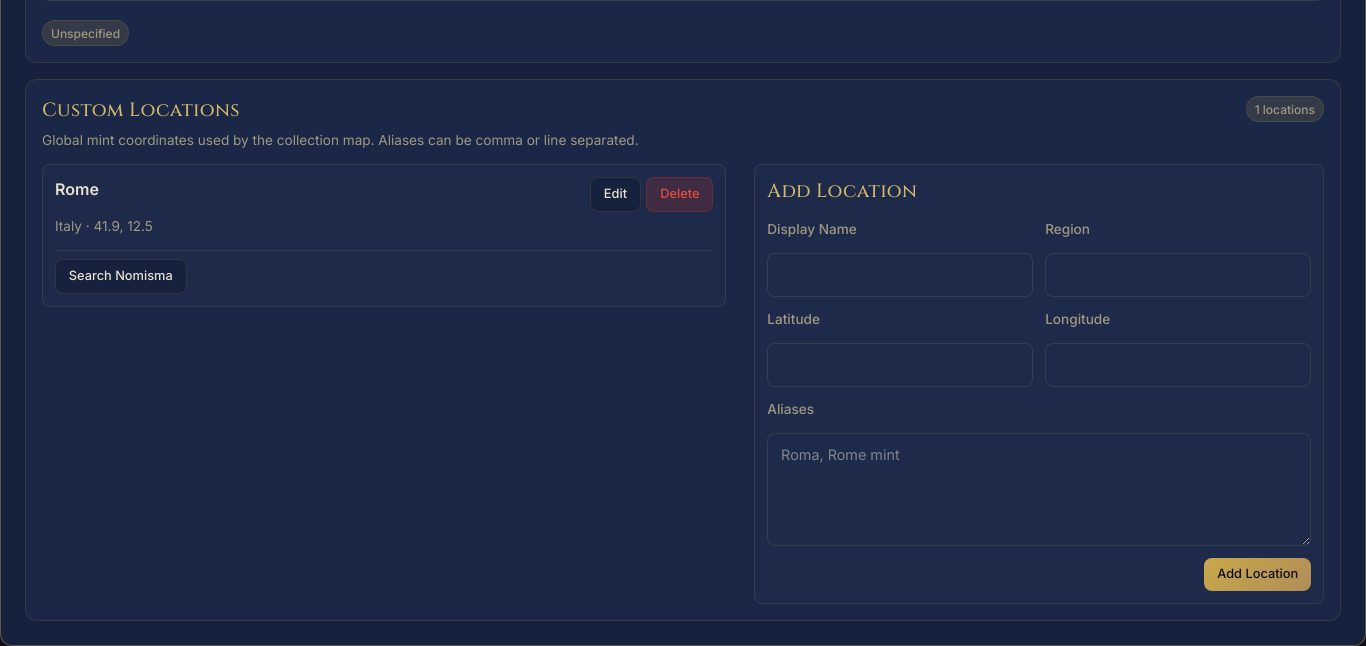
Test: AdminCoinPropertiesSection - Nomisma authority linking › shows "unavailable" messaging on an upstream outage and never surfaces a raw error/5xx
The width and height of the screenshot is (1366, 646).
(page scrolled)
Step 1. Click the button "Search Nomisma" → coordinates (121, 277), box [55, 259, 186, 294]
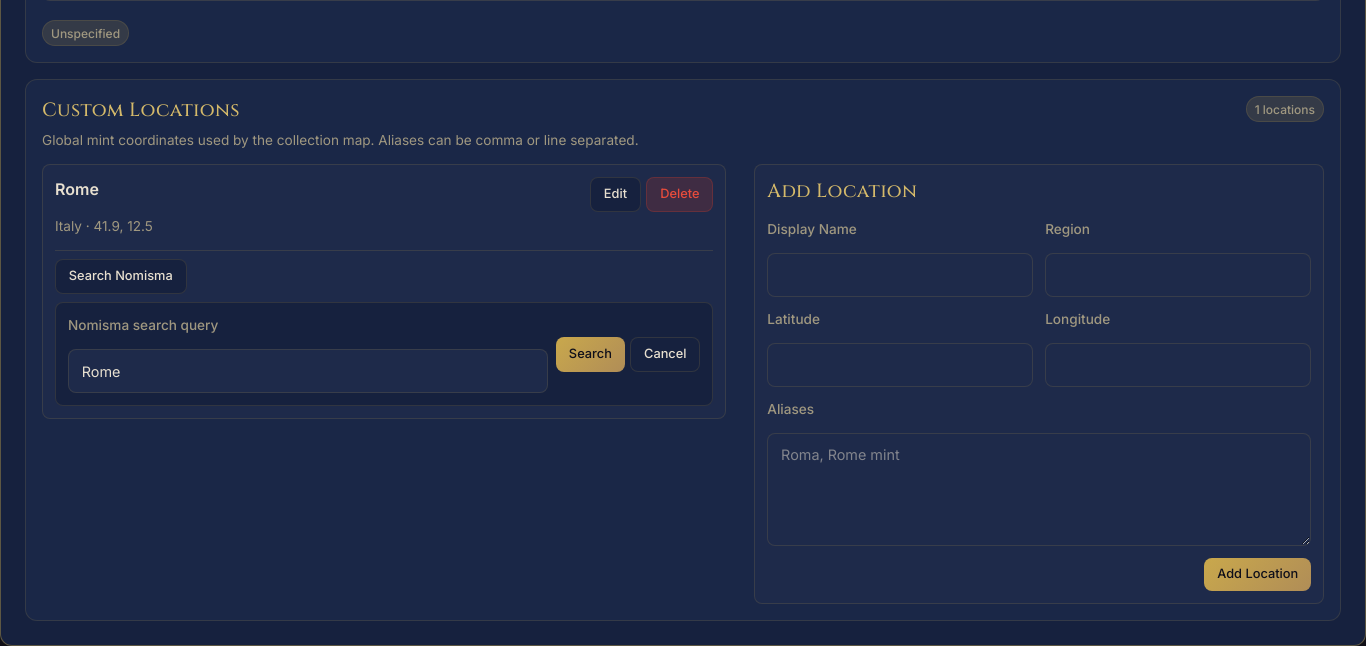
Step 2. Submit the form with class "nomisma-search-form", box [68, 315, 700, 393]
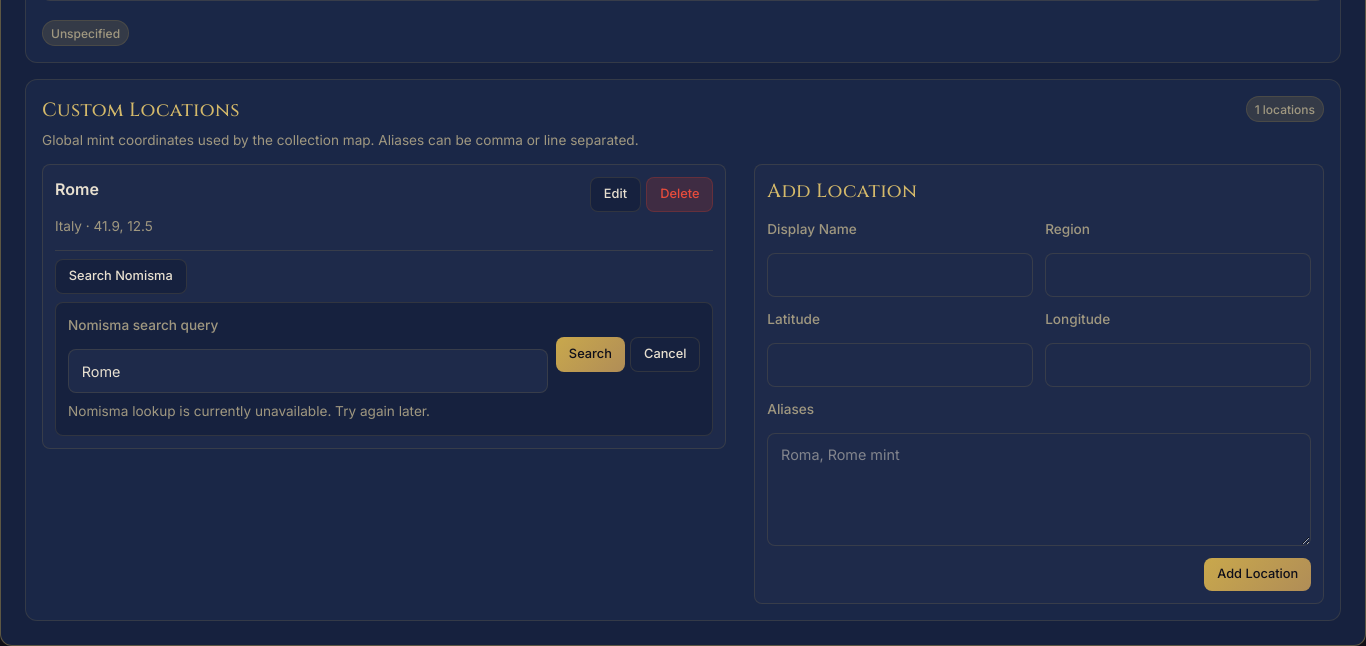
Expected: the text "Nomisma lookup is currently unavailable" is shown, [68, 403, 430, 419]
